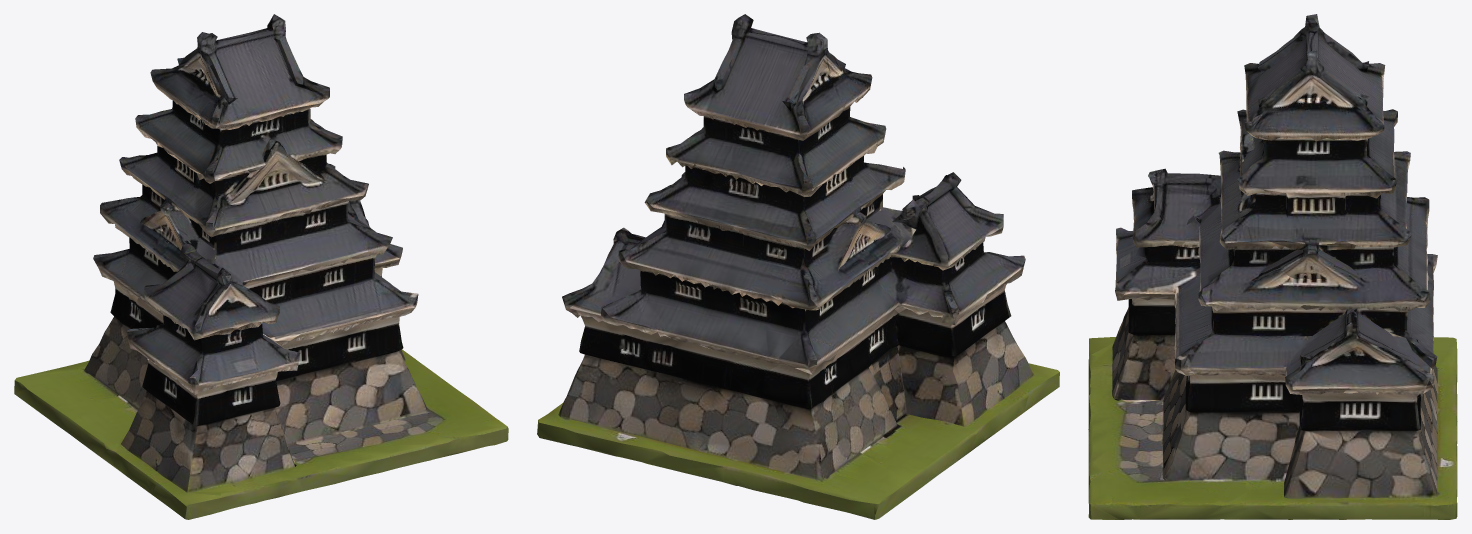
Rendered from matsumoto-castle.glb.
3 views of the same model, side by side, from view 1: azimuth 30°, elevation 25°; view 2: azimuth 150°, elevation 25°; view 3: azimuth 270°, elevation 25° (orthographic). The views are drawn at different scales.
Visible parts, largest first — view 1: logan-textured.obj; view 2: logan-textured.obj; view 3: logan-textured.obj.
Boxes of the visible parts, x1,y1,x2,y2 form: logan-textured.obj: (14,14,508,519); logan-textured.obj: (537,14,1059,519); logan-textured.obj: (1088,14,1457,519).
Size of the model in its own units: 0.8907 by 1 by 0.8288.
Materials: 1 (1 with a texture image).
